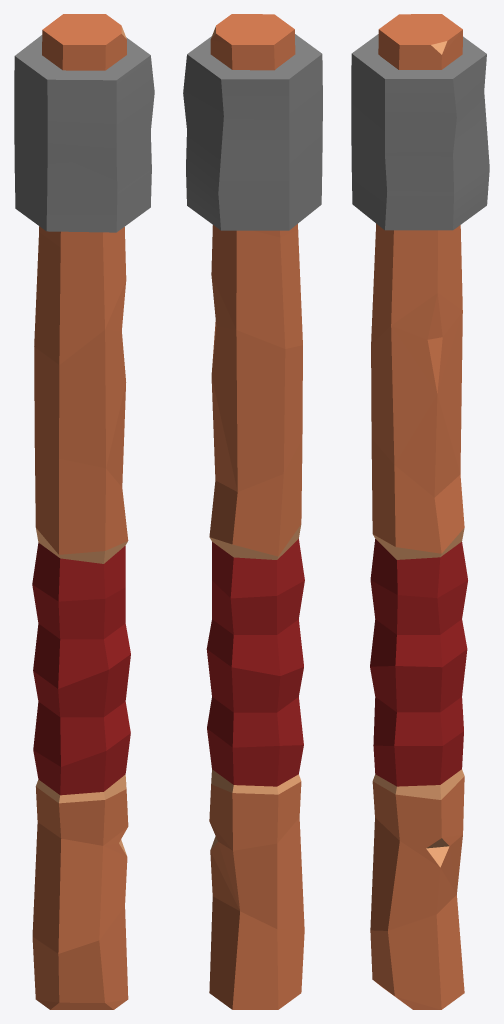
The model's file is handle.glb.
The picture shows the model from 3 angles, left to right: view 1: azimuth 30°, elevation 25°; view 2: azimuth 210°, elevation 25°; view 3: azimuth 330°, elevation 25°; orthographic projection.
Visible parts, largest first — view 1: TEMPLATE_TOOL; view 2: TEMPLATE_TOOL; view 3: TEMPLATE_TOOL.
Part boxes in pixels (x1,y1,x2,y2): TEMPLATE_TOOL: (14,14,154,1009); TEMPLATE_TOOL: (183,14,322,1009); TEMPLATE_TOOL: (351,14,489,1009).
Size of the model in its own units: 0.1874 by 1.63 by 0.2083.
Materials: 1 (1 with a texture image).
